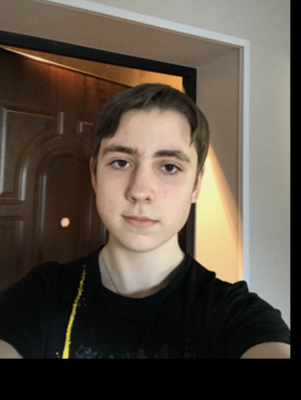without_mask: (96, 141, 197, 253)
